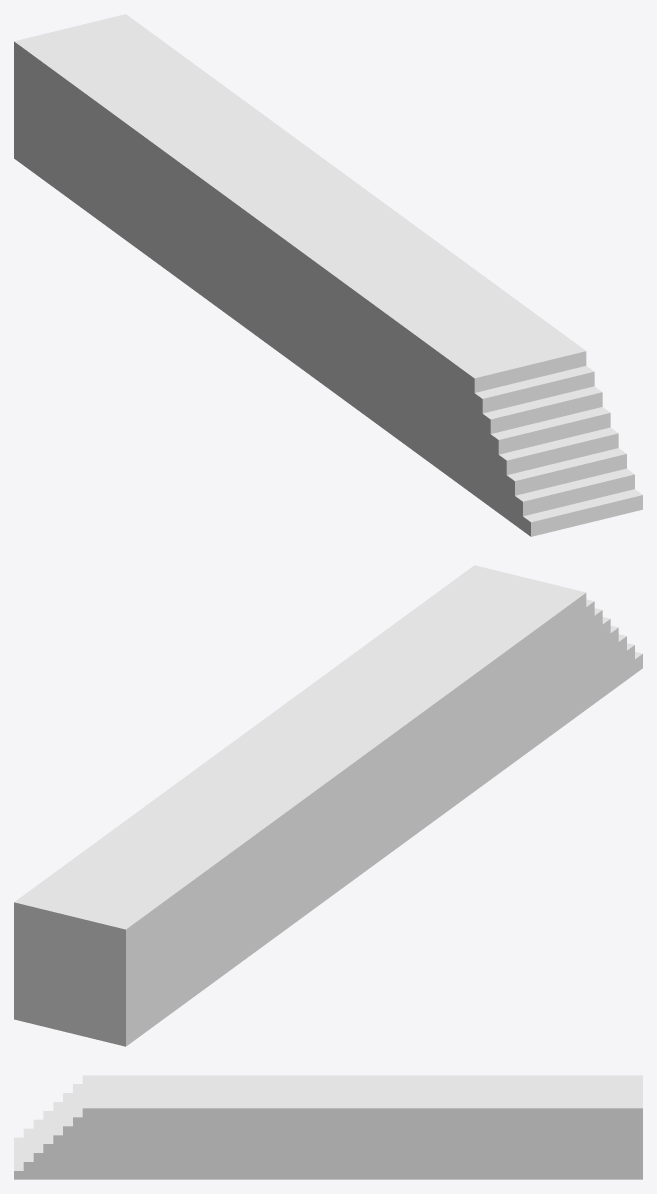
The model's file is rocks01.fbx.
The picture shows the model from 3 angles, top to bottom: view 1: azimuth 30°, elevation 25°; view 2: azimuth 150°, elevation 25°; view 3: azimuth 270°, elevation 25°; orthographic projection. The views are drawn at different scales.
Visible parts, largest first — view 1: color_; view 2: color_; view 3: color_.
Part boxes in pixels (<box>): color_: <box>14,14,642,536</box>; color_: <box>14,565,642,1046</box>; color_: <box>14,1075,642,1179</box>.
Size of the model in its own units: 8 by 8 by 64.
Materials: 1 (1 with a texture image).
